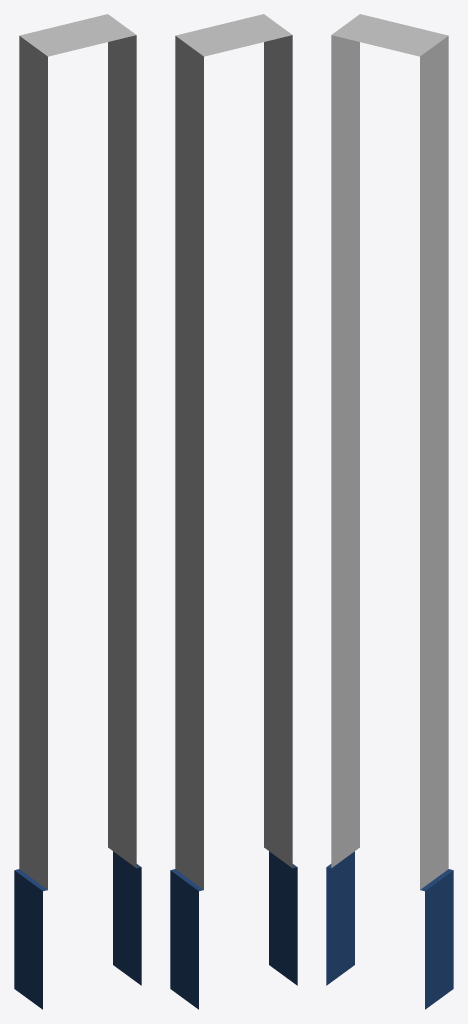
Rendered from Janela_Divisoria.fbx.
3 views of the same model, side by side, from view 1: azimuth 30°, elevation 25°; view 2: azimuth 210°, elevation 25°; view 3: azimuth 330°, elevation 25° (orthographic).
Visible parts, largest first — view 1: Cubo.369; view 2: Cubo.369; view 3: Cubo.369.
Boxes of the visible parts, bbox=[...] form: Cubo.369: bbox=[14, 14, 141, 1009]; Cubo.369: bbox=[170, 14, 297, 1009]; Cubo.369: bbox=[326, 14, 453, 1009].
Bounding box in the file's own units: 54.17 × 500 × 27.41.
